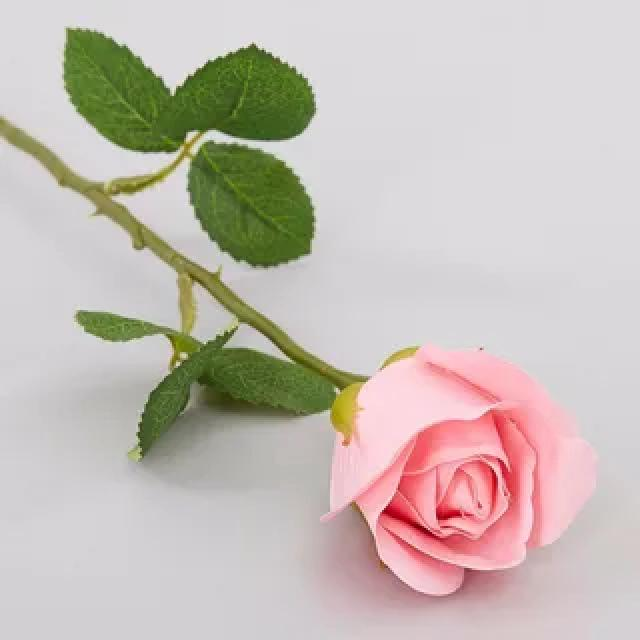rose: (312, 328, 594, 602)
